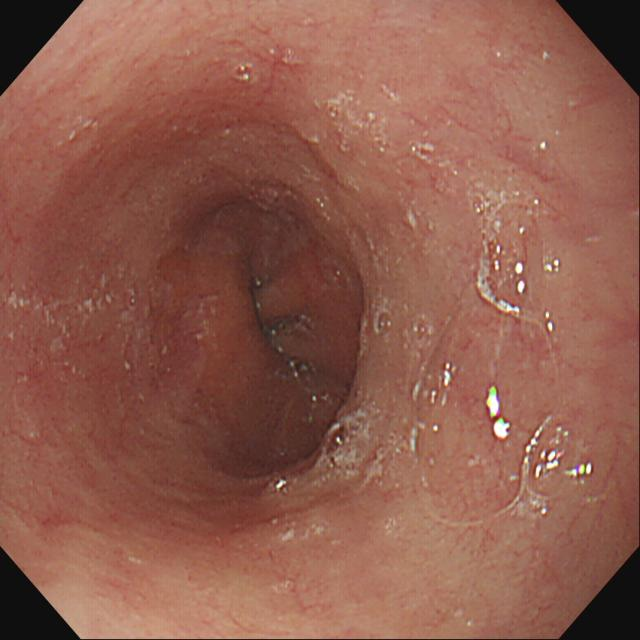I: (165, 194, 372, 478)
T: (413, 190, 621, 524), (323, 415, 402, 485), (316, 96, 392, 152), (228, 58, 264, 86)
U: (487, 386, 510, 442)
